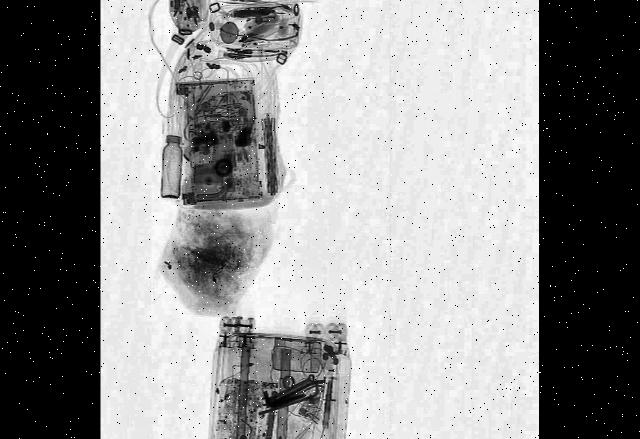Wrench: (260, 373, 316, 410)
